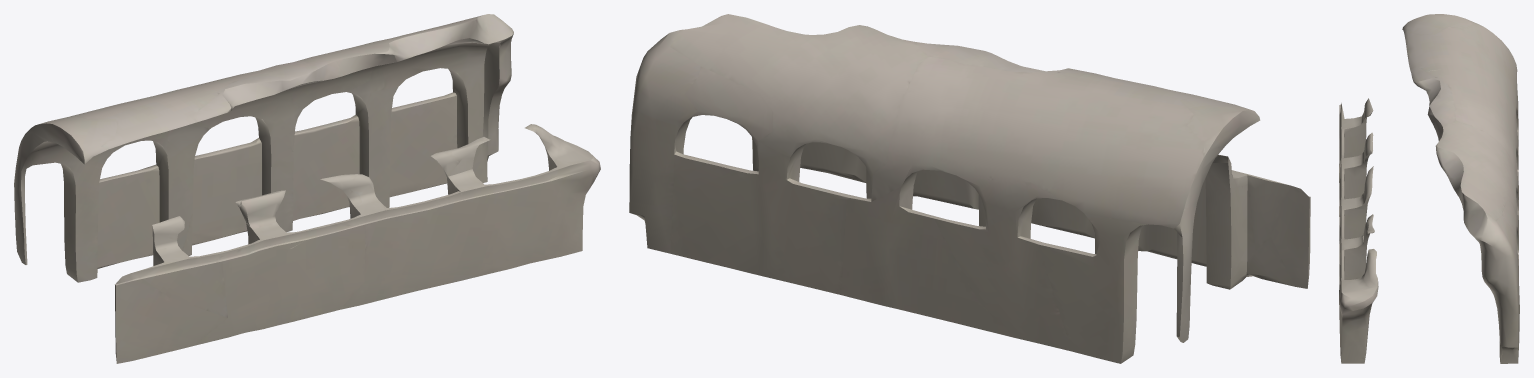
File: m2ArchCorridorBgV2.glb
3 views of the same model, side by side, from view 1: azimuth 30°, elevation 25°; view 2: azimuth 150°, elevation 25°; view 3: azimuth 270°, elevation 25° (orthographic). The views are drawn at different scales.
Parts seen in each view (by area): view 1: model; view 2: model; view 3: model.
Part boxes in pixels (x1,y1,x2,y2): model: (14, 14, 600, 363); model: (629, 14, 1310, 363); model: (1339, 14, 1519, 363).
Size of the model in its own units: 1.9 by 0.7222 by 0.7245.
Materials: 1 (1 with a texture image).
